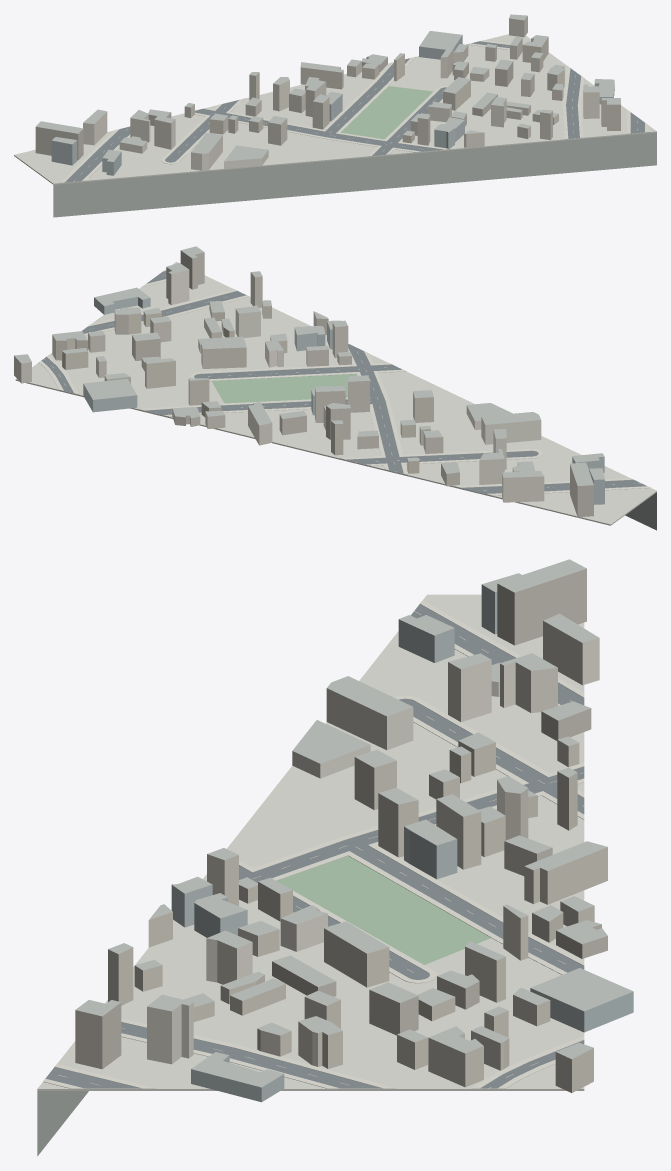
3 views of the same model, one above another, from view 1: azimuth 30°, elevation 25°; view 2: azimuth 150°, elevation 25°; view 3: azimuth 270°, elevation 25° (orthographic). The views are drawn at different scales.
Parts seen in each view (by area): view 1: city; view 2: city; view 3: city.
Boxes of the visible parts, left/top/right/bottom form: city: left=14, top=14, right=656, bottom=217; city: left=14, top=246, right=656, bottom=530; city: left=37, top=559, right=633, bottom=1156.
Bounding box in the file's own units: 514 × 57 × 255.
